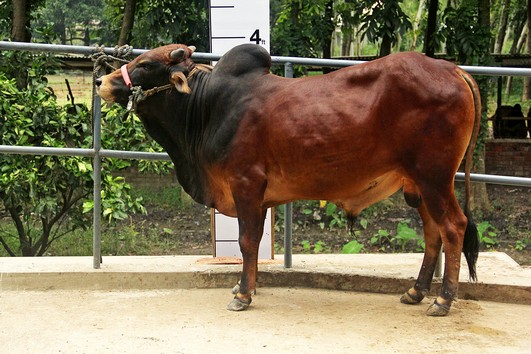cow: (93, 32, 484, 321)
